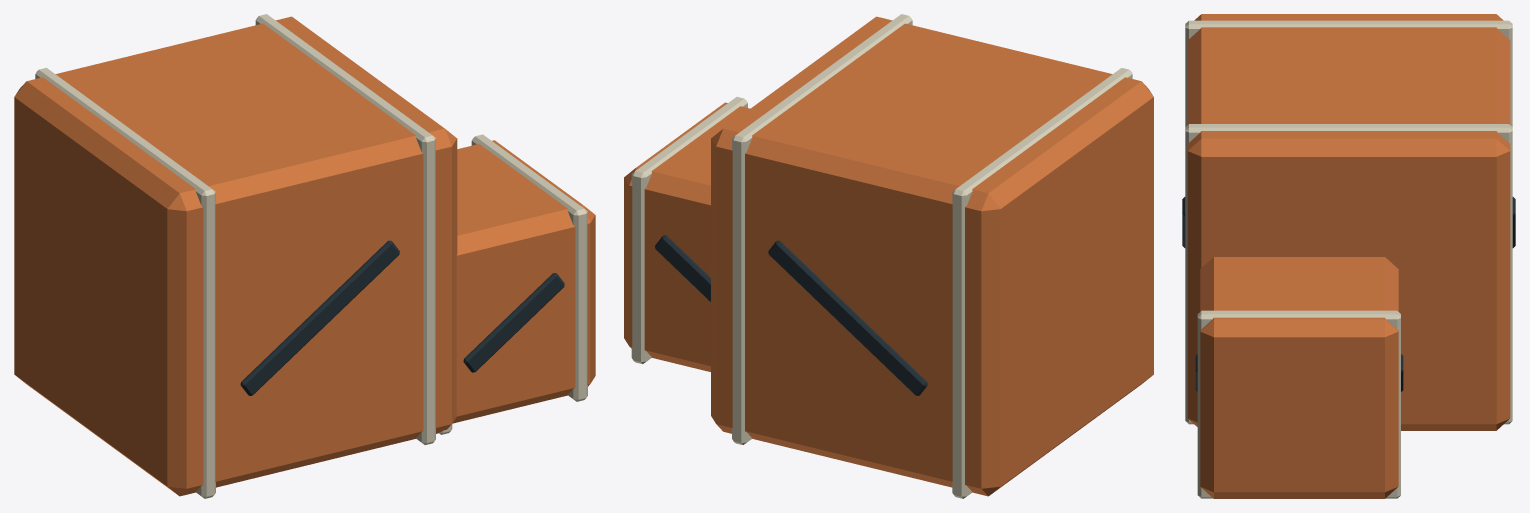
Rendered from prop_deco_02.glb.
3 views of the same model, side by side, from view 1: azimuth 30°, elevation 25°; view 2: azimuth 150°, elevation 25°; view 3: azimuth 270°, elevation 25° (orthographic). The views are drawn at different scales.
Visible parts, largest first — view 1: prop_deco_02__Crates; view 2: prop_deco_02__Crates; view 3: prop_deco_02__Crates.
Part boxes in pixels (x1,y1,x2,y2): prop_deco_02__Crates: (14, 14, 595, 498); prop_deco_02__Crates: (624, 14, 1153, 498); prop_deco_02__Crates: (1182, 14, 1515, 498).
Bounding box in the file's own units: 1.95 × 1.32 × 1.34.
